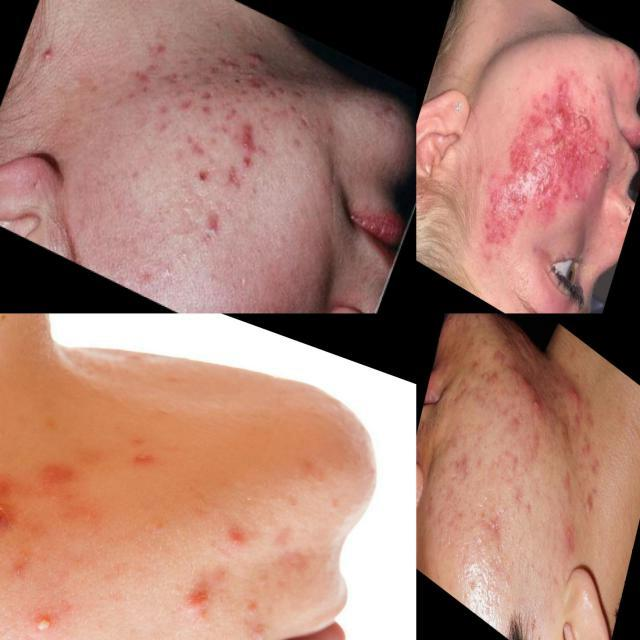Pimples: (0, 575, 106, 640), (166, 563, 236, 626), (0, 479, 58, 548), (188, 202, 235, 254), (445, 365, 473, 423), (230, 115, 268, 156), (448, 438, 476, 484), (560, 372, 588, 416), (479, 497, 506, 542), (552, 71, 580, 110), (217, 155, 244, 193), (570, 107, 596, 143), (545, 128, 569, 166), (548, 102, 574, 136), (473, 378, 496, 416), (170, 90, 198, 120), (523, 386, 547, 419), (284, 80, 310, 109), (196, 76, 222, 105), (38, 37, 61, 65), (466, 568, 482, 603), (530, 134, 548, 164), (599, 132, 618, 157), (532, 194, 550, 219), (538, 169, 554, 197), (567, 185, 584, 209), (486, 363, 502, 387), (592, 157, 608, 179), (518, 188, 532, 212)
